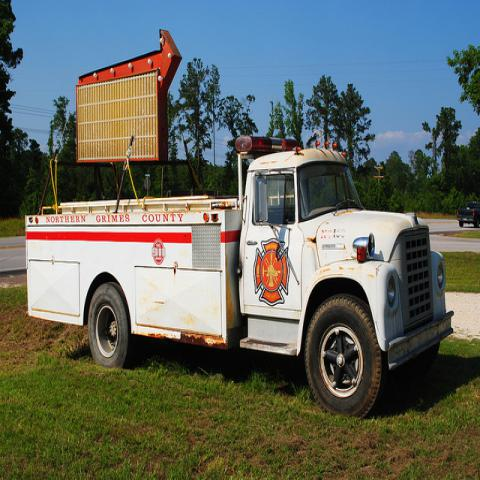car: (456, 200, 479, 229)
truck: (26, 135, 454, 422)
